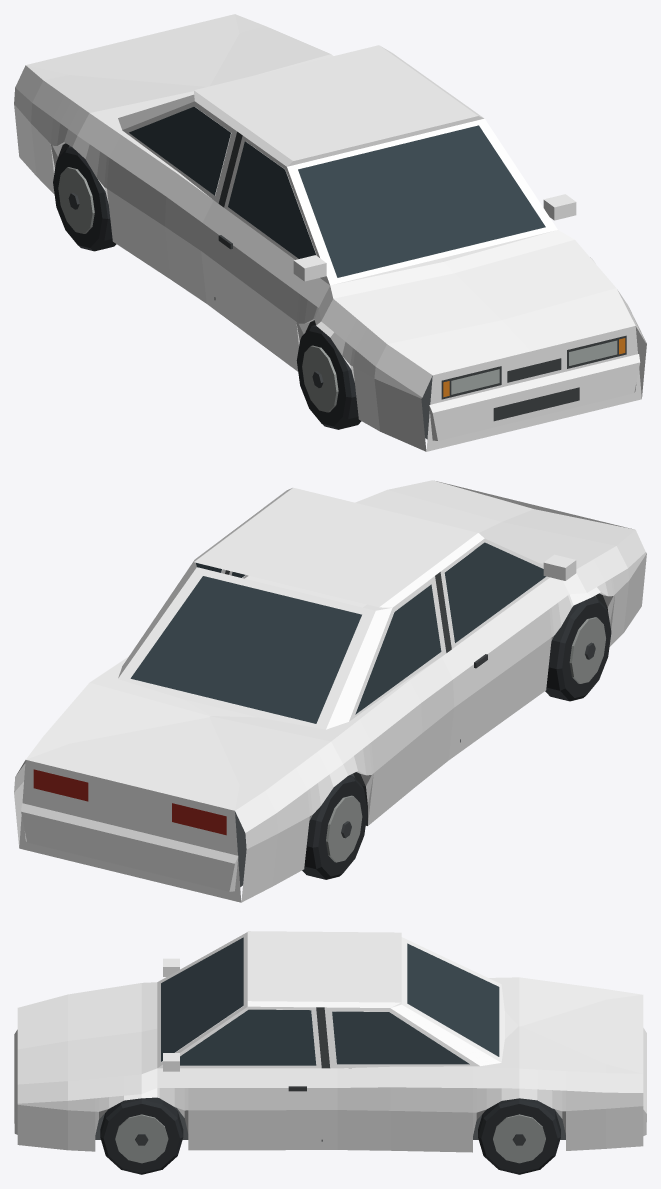
File: kanaya_murasame_s.glb
3 views of the same model, one above another, from view 1: azimuth 30°, elevation 25°; view 2: azimuth 150°, elevation 25°; view 3: azimuth 270°, elevation 25° (orthographic). The views are drawn at different scales.
Visible parts, largest first — view 1: kanaya_murasame_s; view 2: kanaya_murasame_s; view 3: kanaya_murasame_s.
Boxes of the visible parts, left/top/right/bottom form: kanaya_murasame_s: left=14, top=14, right=646, bottom=451; kanaya_murasame_s: left=14, top=480, right=646, bottom=902; kanaya_murasame_s: left=14, top=931, right=646, bottom=1174.
Size of the model in its own units: 1.75 by 1.25 by 4.49.
8 materials, 1 textured.
